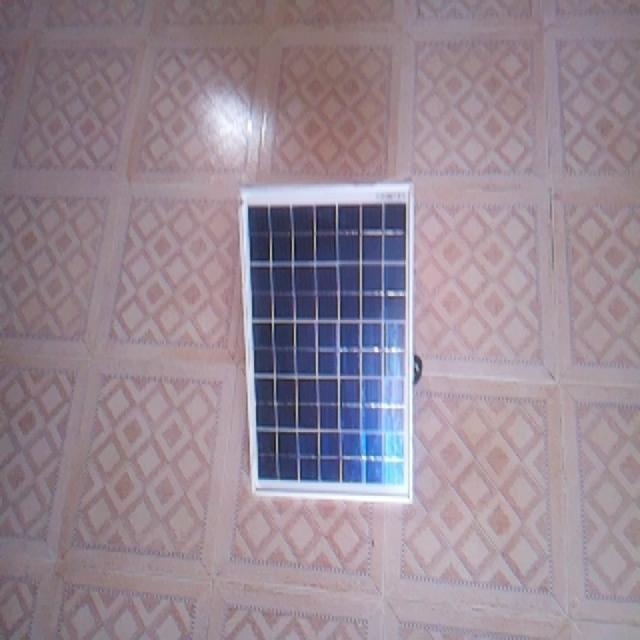Normal Solar Panel: (241, 183, 413, 504)
